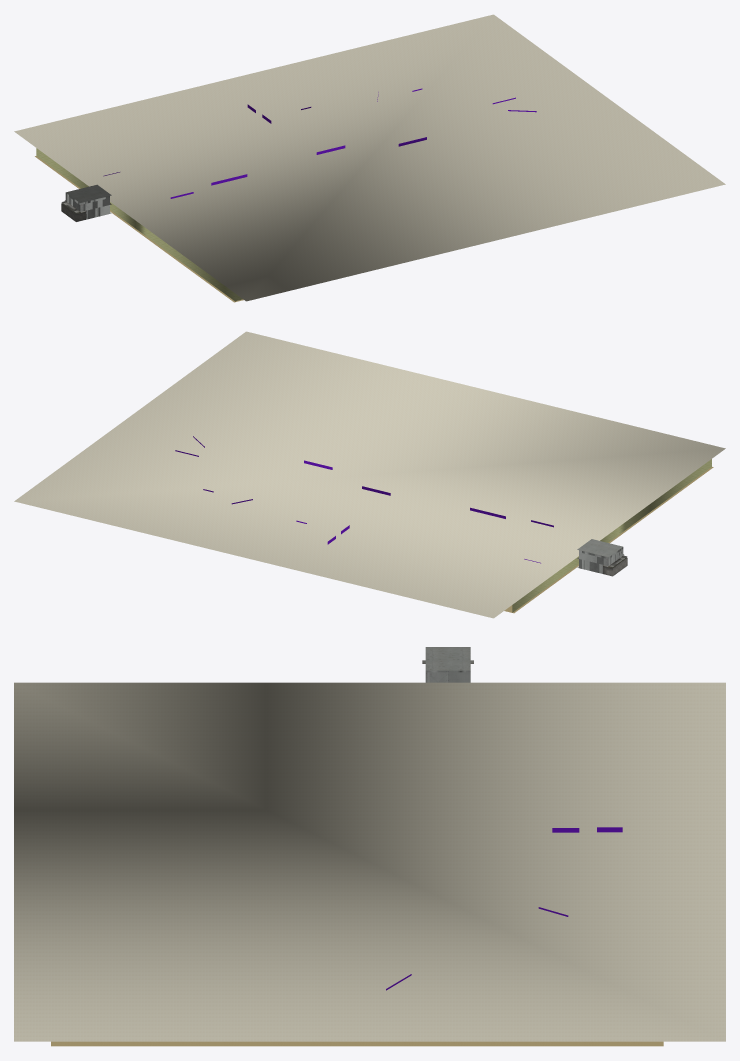
Rendered from kcl.obj.
3 views of the same model, one above another, from view 1: azimuth 30°, elevation 25°; view 2: azimuth 150°, elevation 25°; view 3: azimuth 270°, elevation 25° (orthographic). The views are drawn at different scales.
Parts seen in each view (by area): view 1: ceiling, wall, out_of_bounds; view 2: ceiling, wall, out_of_bounds; view 3: ceiling, floor.
Boxes of the visible parts, left/top/right/bottom form: ceiling: left=14, top=14, right=725, bottom=301; wall: left=36, top=148, right=242, bottom=301; out_of_bounds: left=103, top=88, right=536, bottom=198; ceiling: left=14, top=331, right=725, bottom=618; wall: left=512, top=459, right=711, bottom=612; out_of_bounds: left=175, top=436, right=553, bottom=563; ceiling: left=14, top=647, right=725, bottom=1041; floor: left=51, top=1041, right=663, bottom=1046.
Size of the model in its own units: 109253 by 4527 by 85241.
